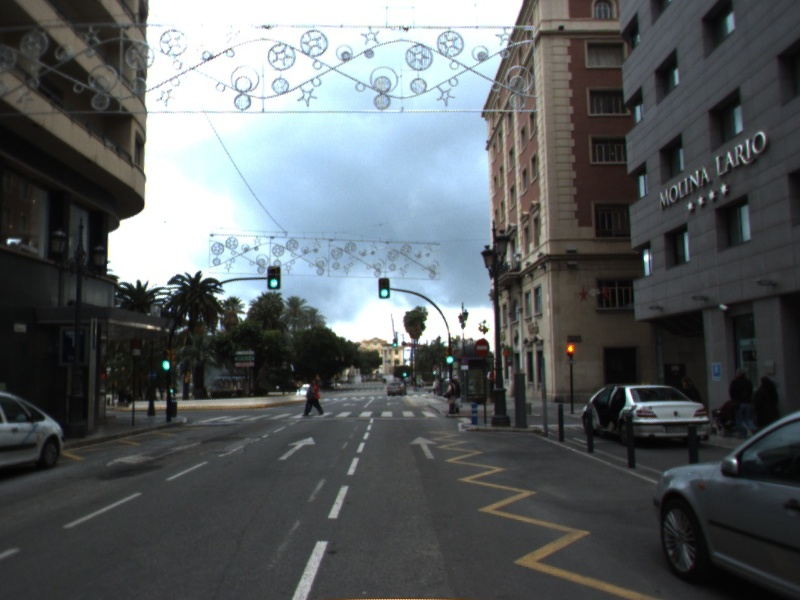STRAIGHT: (276, 435, 318, 462), (407, 434, 440, 461)
STRAIGHT_LEFT: (104, 440, 203, 468)
